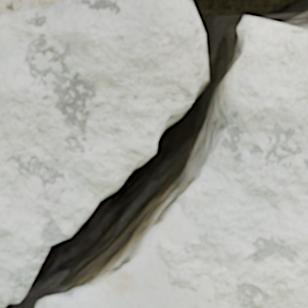broken_brick: (37, 24, 307, 307), (0, 0, 204, 307)
crack: (2, 0, 307, 307)
